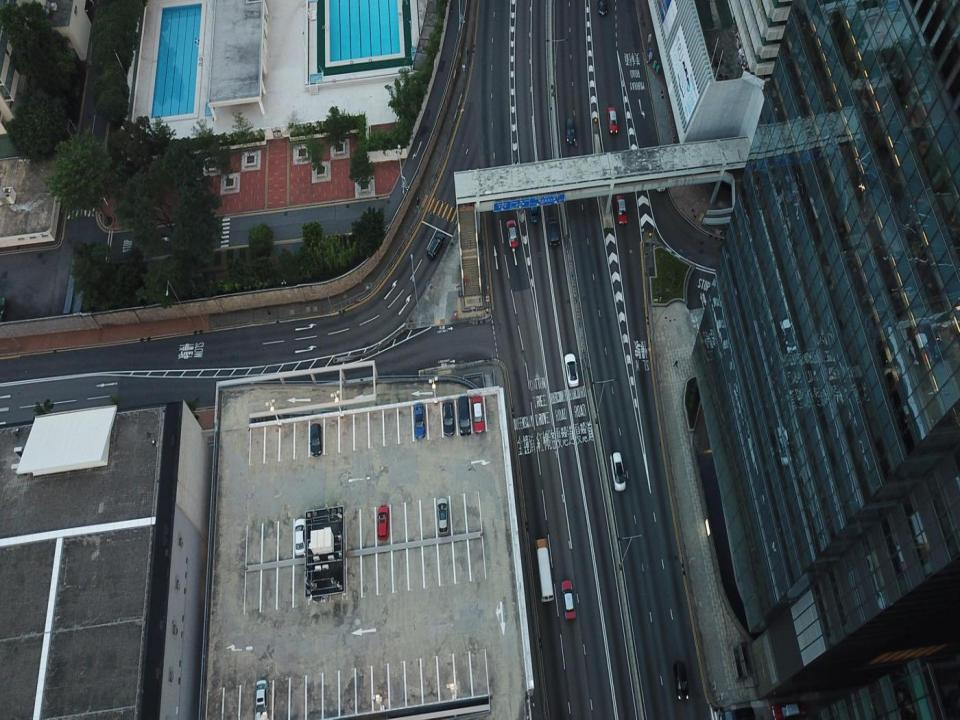bus: (535, 535, 554, 603)
car: (610, 452, 625, 492), (674, 661, 689, 700), (772, 702, 806, 719), (458, 395, 471, 436), (255, 679, 268, 719), (562, 580, 575, 620), (564, 353, 579, 387), (437, 498, 450, 537), (427, 232, 445, 260), (718, 706, 756, 719), (294, 517, 306, 555), (413, 404, 426, 439), (472, 397, 484, 433), (442, 402, 455, 435), (310, 423, 322, 456), (378, 505, 389, 539), (549, 217, 560, 248), (507, 219, 518, 248), (655, 162, 666, 191), (617, 195, 626, 224), (566, 117, 575, 145), (608, 107, 617, 134), (530, 196, 538, 222), (597, 1, 608, 15)
